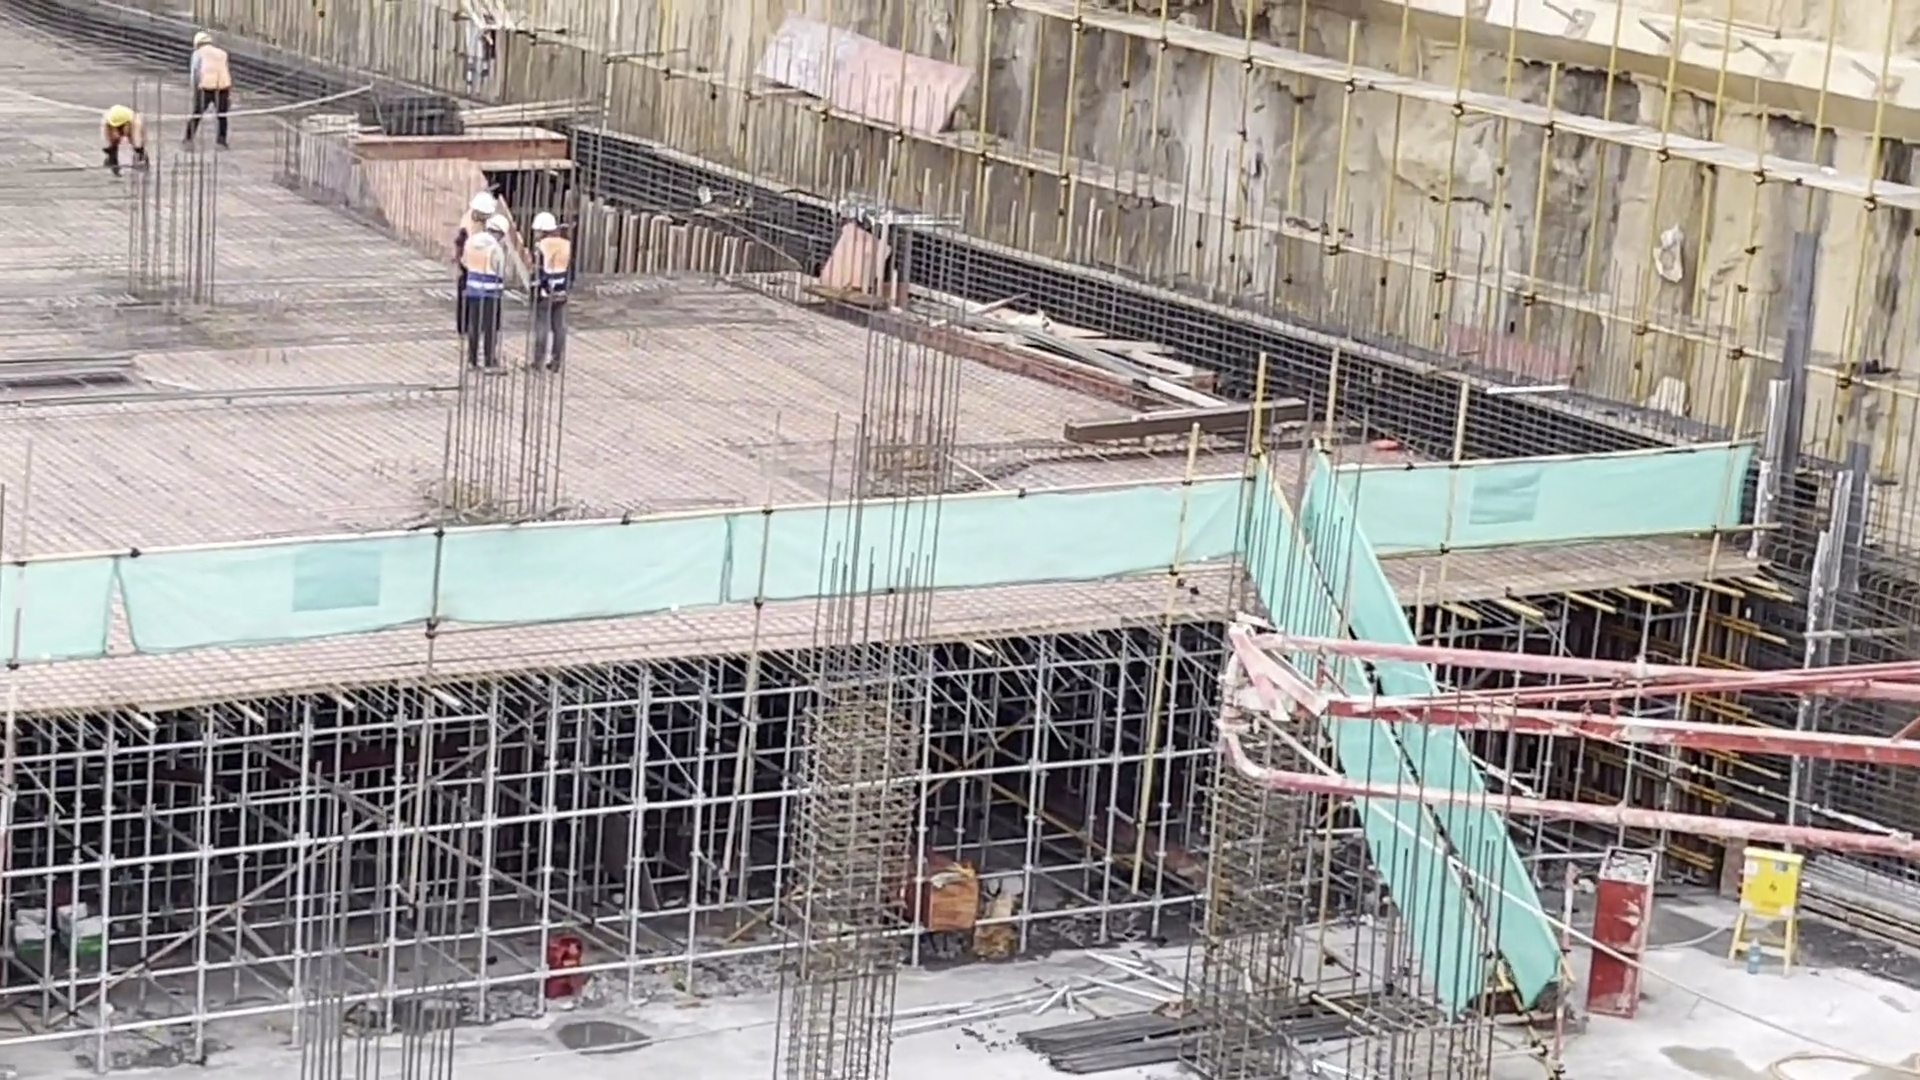ebox: (1711, 843, 1822, 976)
helmet: (101, 102, 130, 130), (470, 194, 496, 214), (531, 213, 555, 234), (193, 28, 212, 45), (486, 214, 507, 231)
person: (529, 212, 570, 381), (466, 214, 506, 377), (184, 27, 230, 154), (455, 194, 494, 332), (95, 101, 154, 178)
rebar: (1000, 979, 1437, 1074)
vest: (534, 237, 570, 294), (465, 236, 500, 286), (198, 50, 227, 90), (101, 119, 141, 147)
